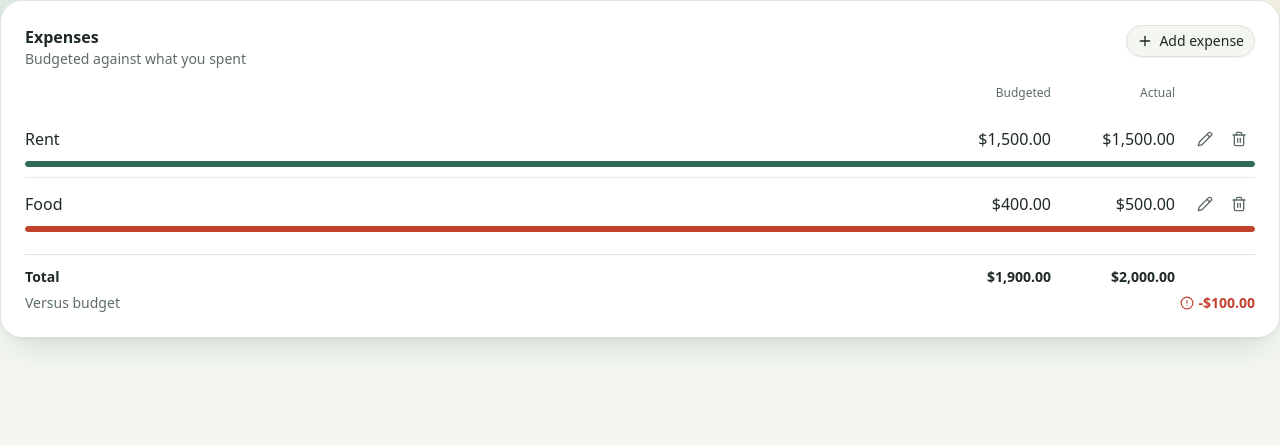
BudgetCard › cancels an edit without saving
The width and height of the screenshot is (1280, 445).
Click the button named "Edit Rent".
click(1205, 139)  # box [1189, 123, 1221, 155]
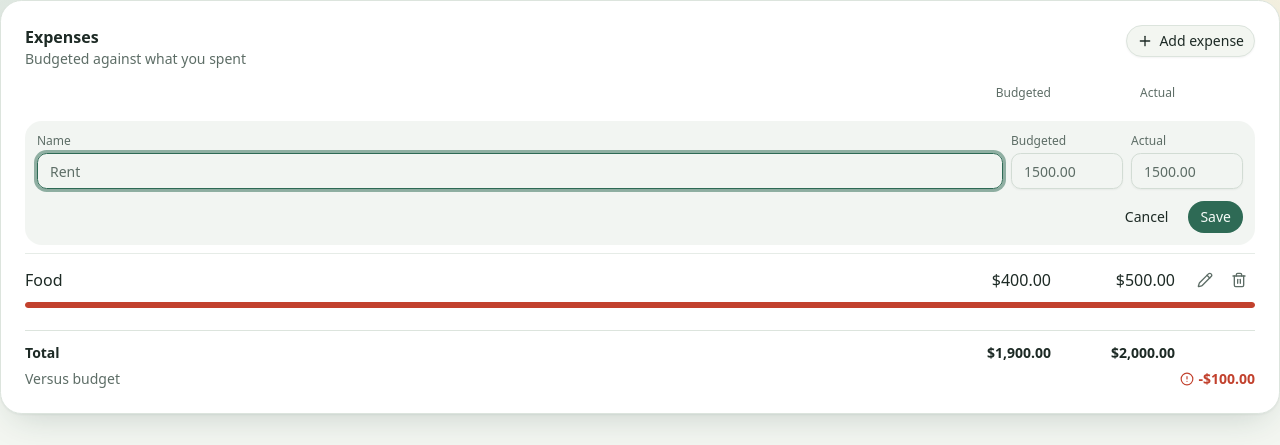
Click the button "Cancel".
click(1147, 217)  # box [1113, 201, 1180, 233]
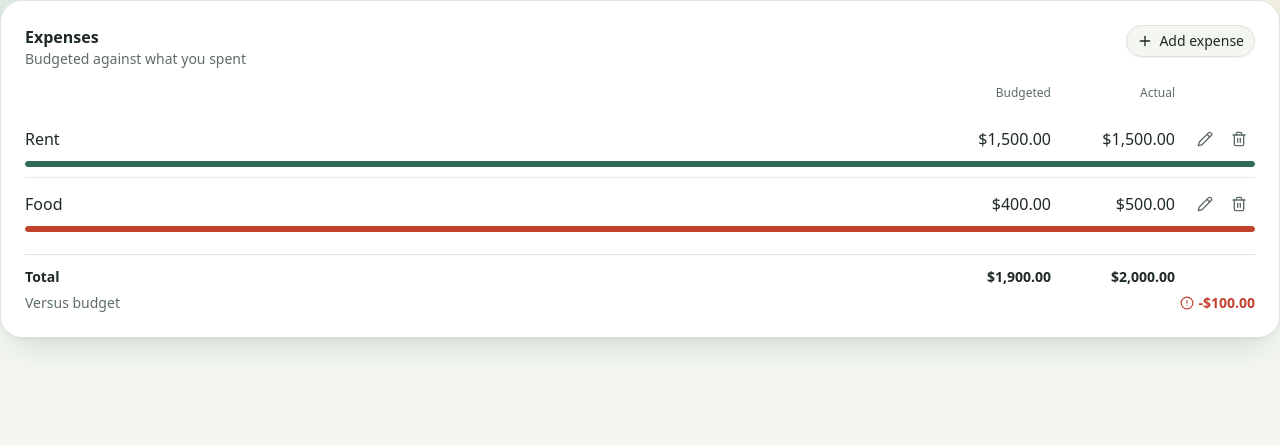
Expected: the list item "Rent" is shown, [25, 113, 1255, 178]
